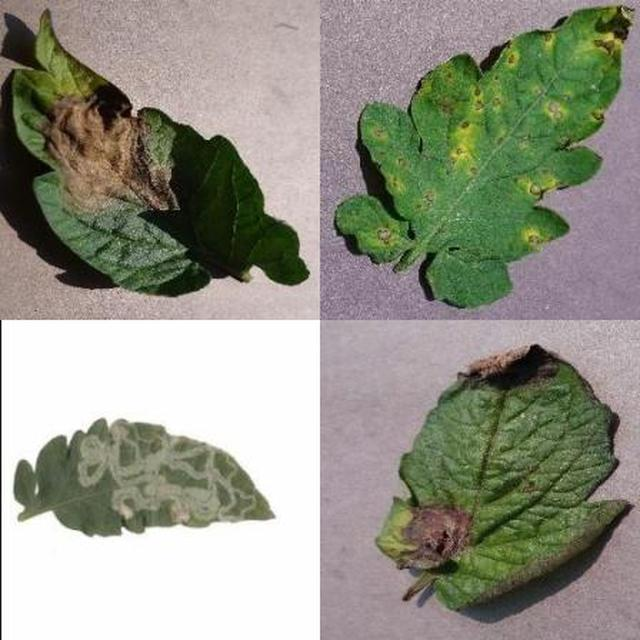Late Blight Leaf: (204, 176, 640, 640)
